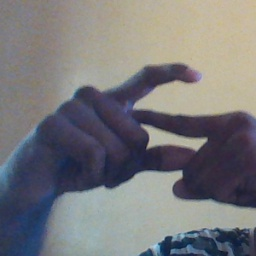E: (101, 58, 218, 178)
